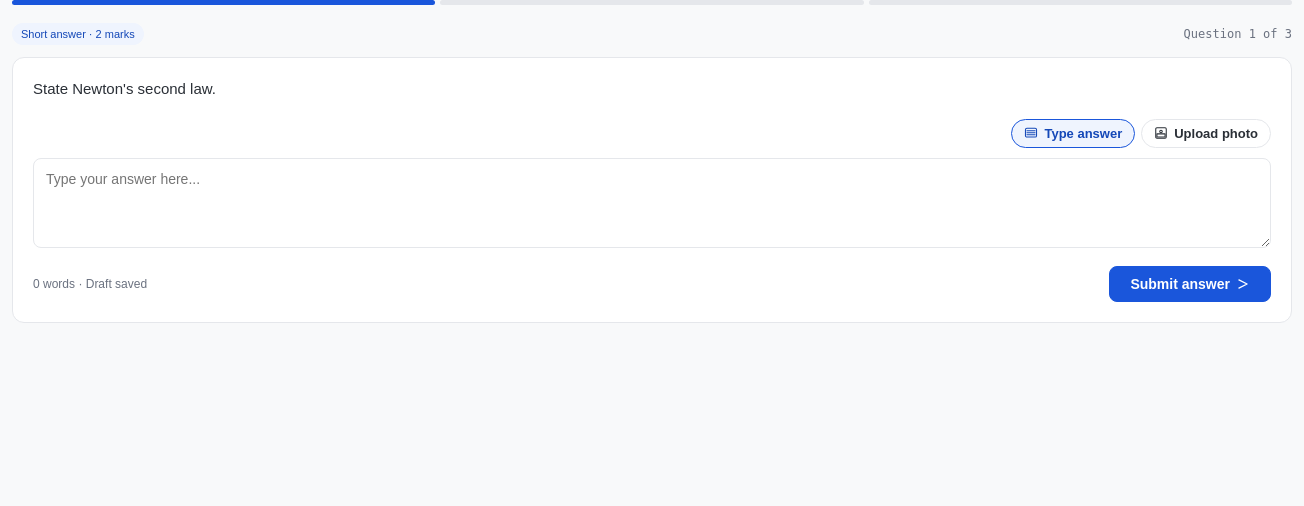
Scenario: short answers, drafts and self-marking › asks the student to self-mark when the grader could not, then sends the self-mark token
Type "my words" into the text box with placeholder "Type your answer here...".
click(652, 202); type("my words")  # box [33,158,1271,248]
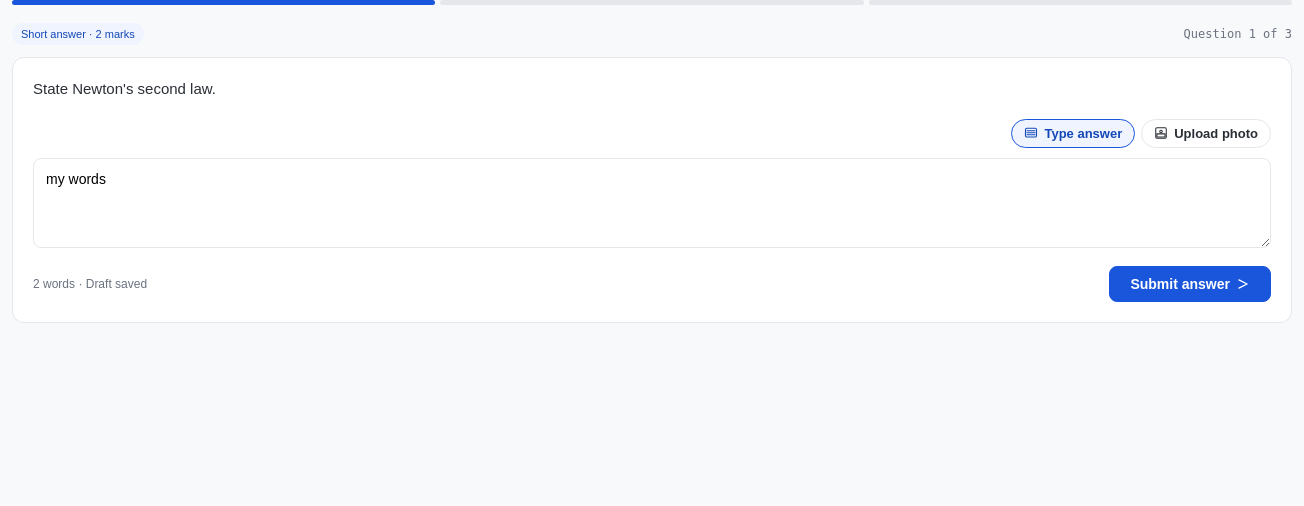
Click the button "Submit answer".
click(1190, 284)  # box [1109,266,1271,302]
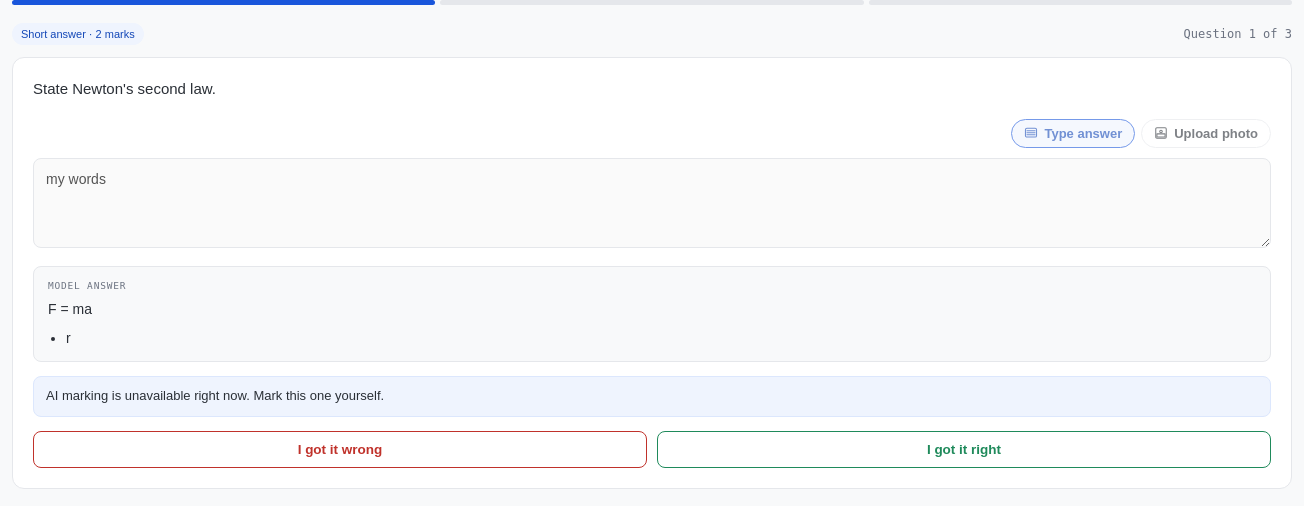
Check: the text "Next question" is not shown
Check: the button "I got it right" is shown
Check: the text "AI marking is unavailable right now. Mark this one yourself." is shown, box [33,376,1271,417]
Click the button "I got it right".
click(964, 449)  # box [657,431,1271,468]
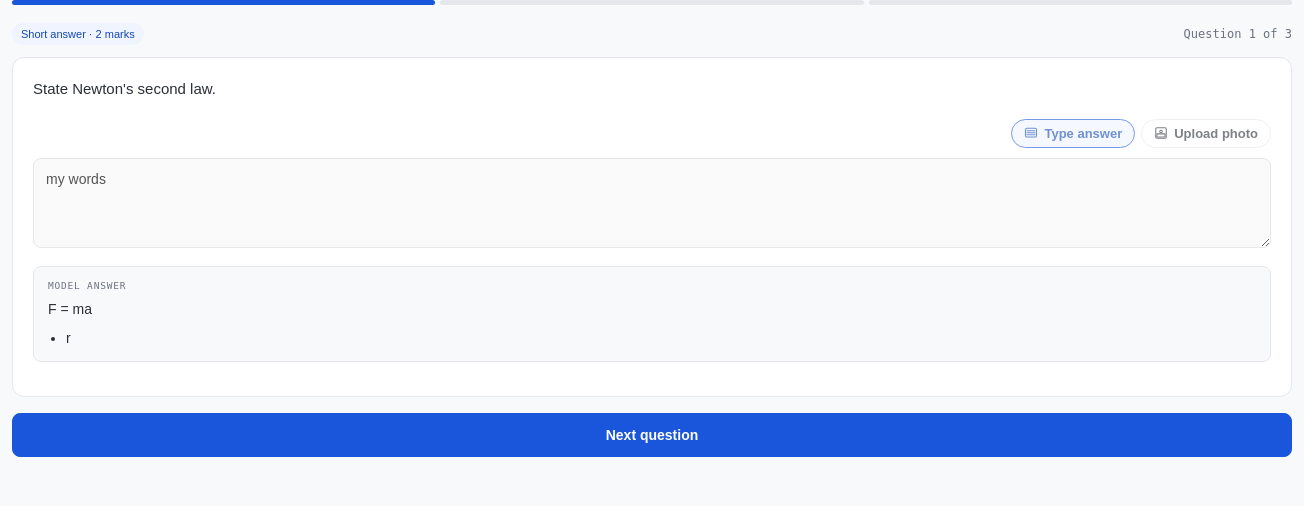
Check: the button "Next question" is shown, box [12,413,1292,457]
